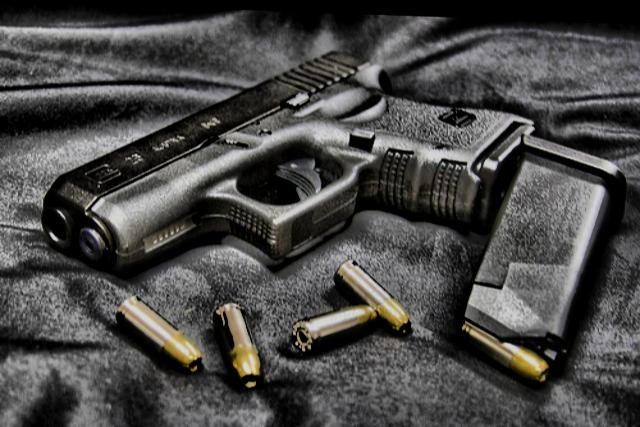pistol: (28, 39, 536, 283)
